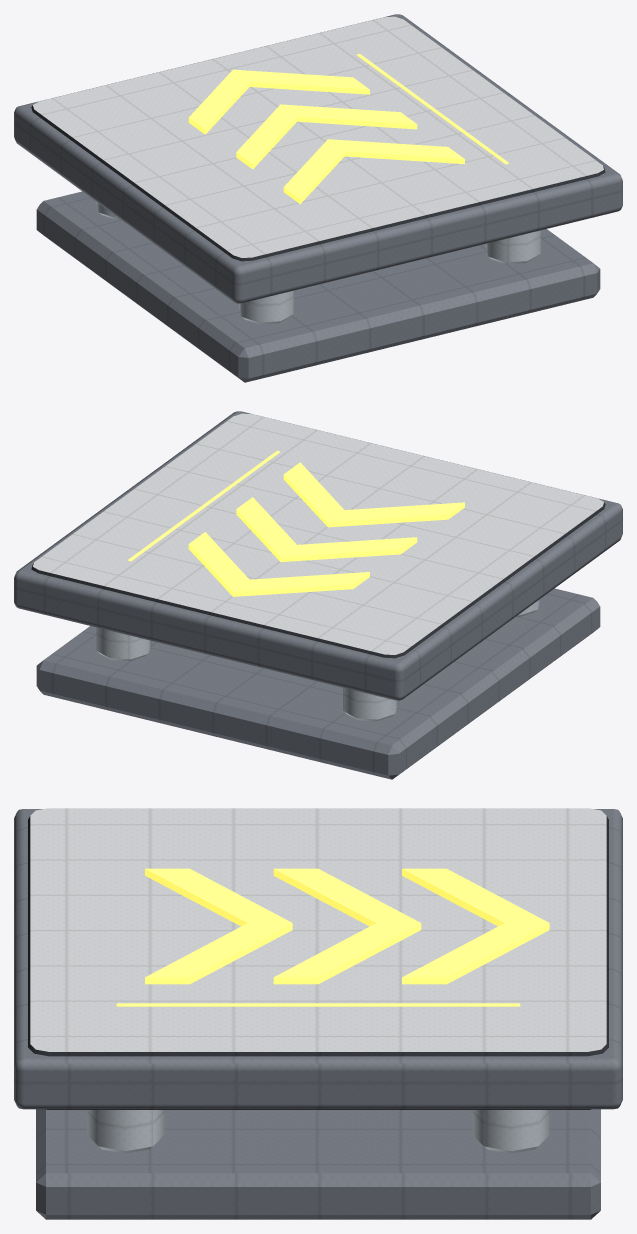
The model's file is R4D_KnockbackTrap.glb.
The picture shows the model from 3 angles, top to bottom: view 1: azimuth 30°, elevation 25°; view 2: azimuth 150°, elevation 25°; view 3: azimuth 270°, elevation 25°; orthographic projection. The views are drawn at different scales.
Parts seen in each view (by area): view 1: R4D_KnockbackTrap_Plate, R4D_KnockbackTrap_Body; view 2: R4D_KnockbackTrap_Plate, R4D_KnockbackTrap_Body; view 3: R4D_KnockbackTrap_Plate, R4D_KnockbackTrap_Body.
Boxes of the visible parts, x1,y1,x2,y2 form: R4D_KnockbackTrap_Plate: (14, 14, 622, 303); R4D_KnockbackTrap_Body: (36, 191, 600, 382); R4D_KnockbackTrap_Plate: (14, 411, 622, 700); R4D_KnockbackTrap_Body: (36, 588, 600, 779); R4D_KnockbackTrap_Plate: (14, 808, 622, 1109); R4D_KnockbackTrap_Body: (36, 1109, 600, 1219).
Size of the model in its own units: 0.474 by 0.156 by 0.474.
Materials: 5 (4 with a texture image).
